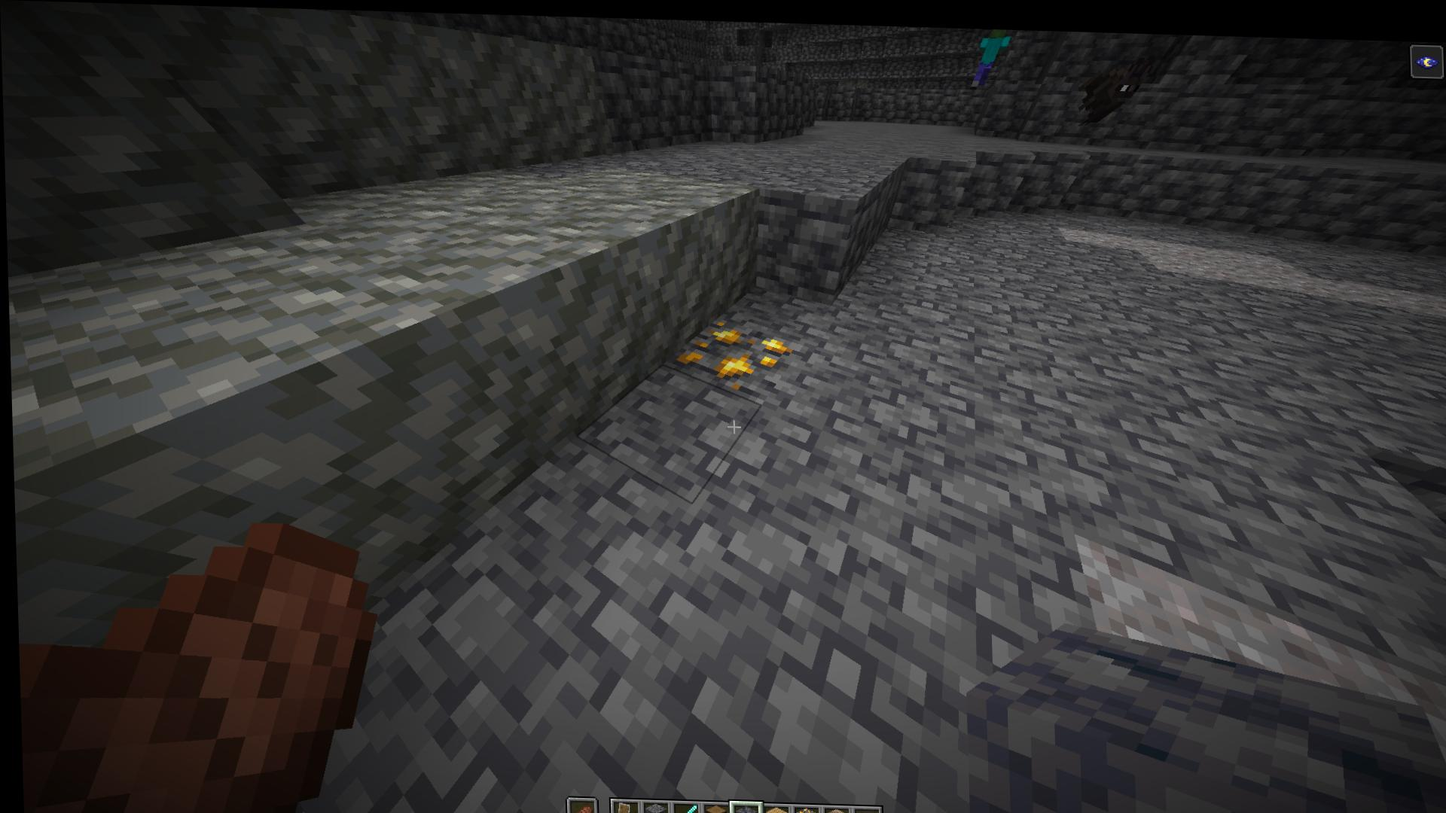gold ore: (669, 305, 803, 401)
